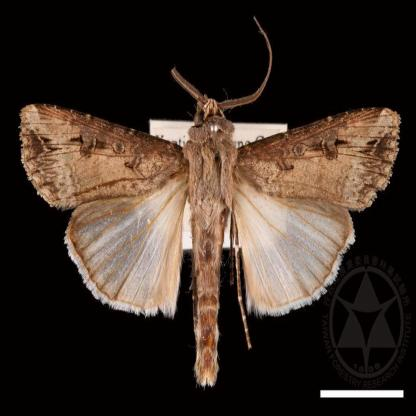armyworm: (18, 18, 403, 390)
